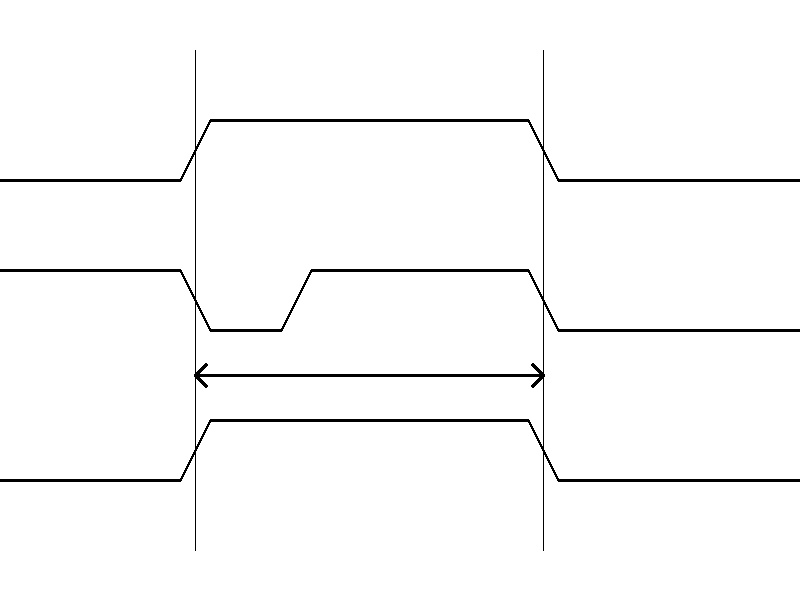double_arrow: (195, 360, 543, 390)
